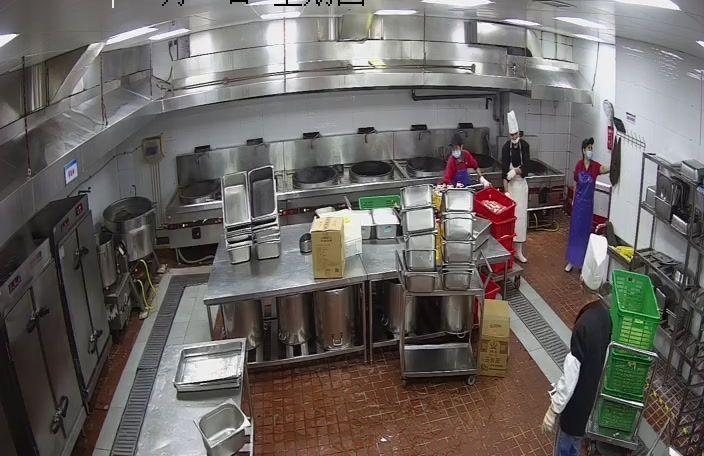mask: (509, 130, 522, 146), (583, 144, 596, 160)
